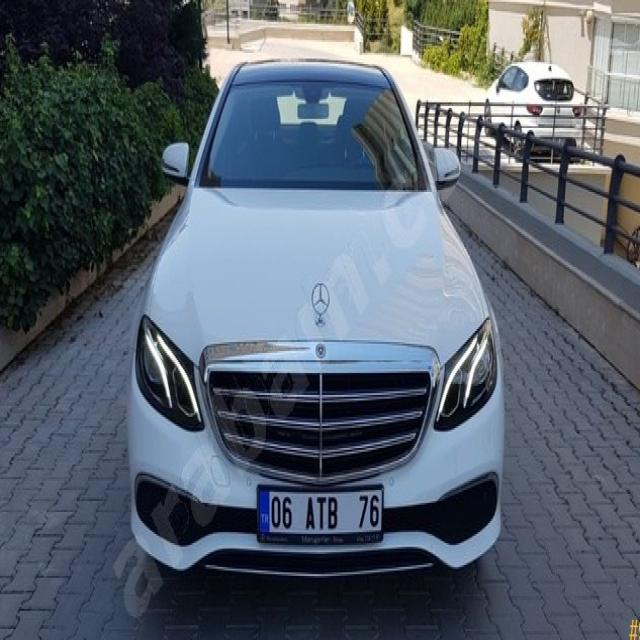license_plate: (257, 486, 382, 534)
